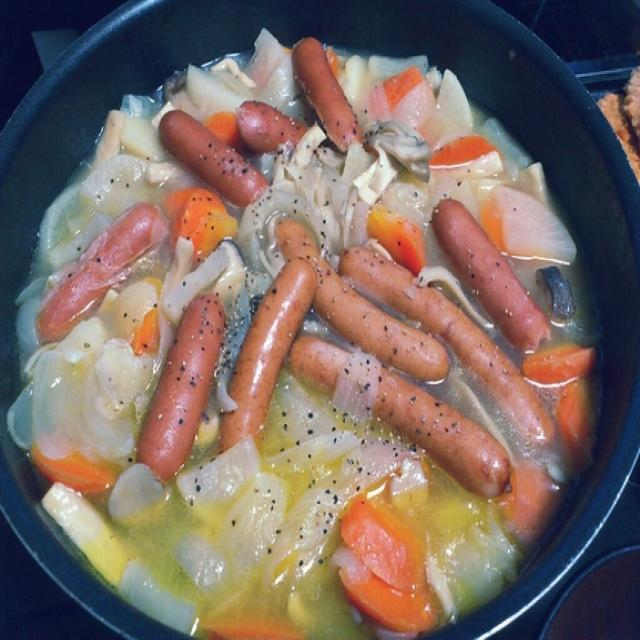汤锅炖物: (11, 10, 626, 621)
